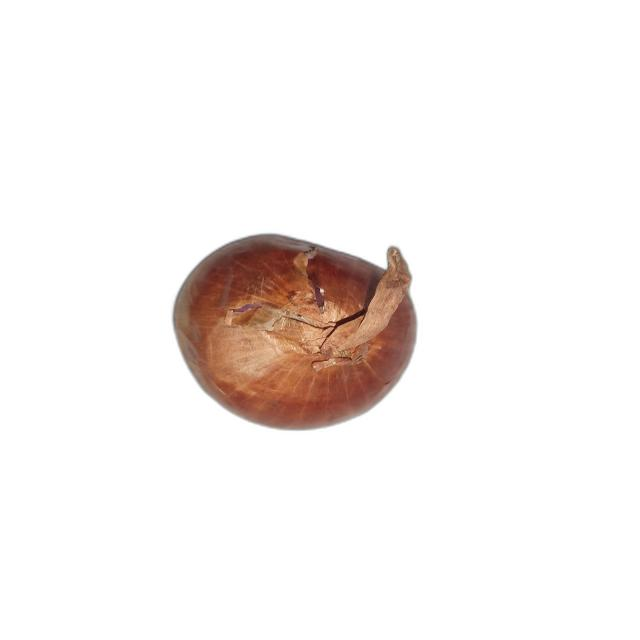onion: (171, 234, 419, 432)
